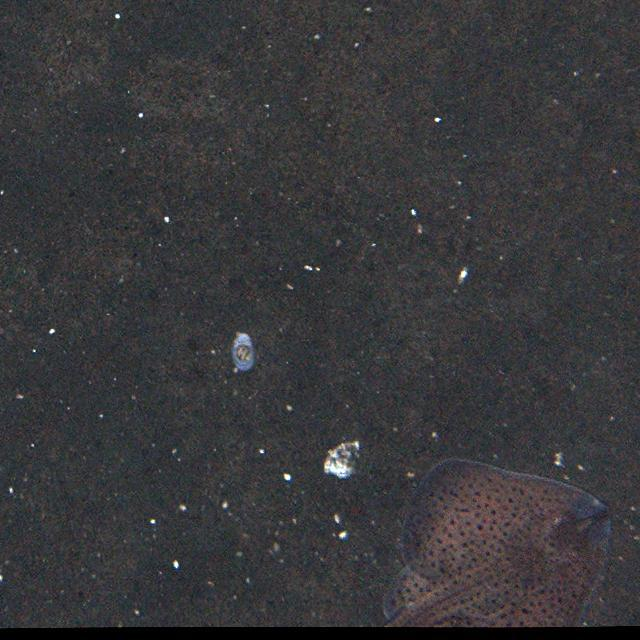skate: (385, 458, 617, 631)
